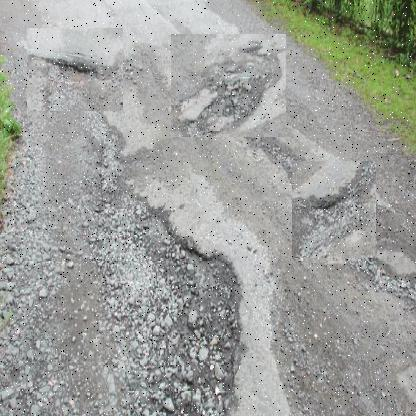damage: (91, 202, 255, 410), (170, 35, 286, 138), (291, 161, 376, 259), (26, 28, 123, 112)
